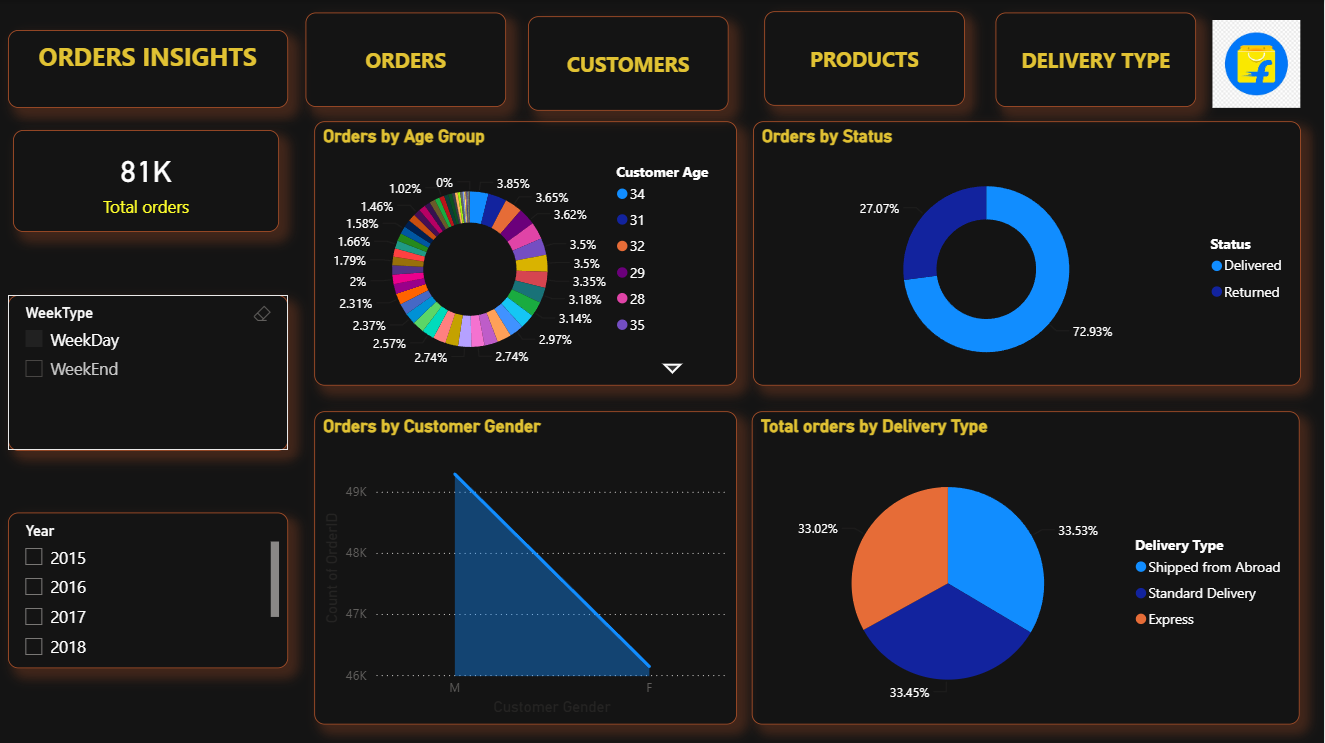

The dashboard page shown, as its layout file describes it:
{"tool":"powerbi","page":{"name":"Orders","canvas":[1280,720],"ordinal":2},"visuals":[{"type":"textbox","box":[10,28.8,270,75],"z":0},{"type":"shape","box":[296.2,12.5,193.8,91.2],"z":1000},{"type":"shape","box":[511.2,16.2,193.8,91.2],"z":2000},{"type":"shape","box":[740,11.2,193.8,91.2],"z":3000},{"type":"shape","box":[962.5,12.5,193.8,91.2],"z":4000},{"type":"image","box":[1150,18.8,130,85],"z":5000},{"type":"slicer","fields":{"Values":["Calendar.WeekType"]},"box":[9.7,284.7,270,150],"z":6000},{"type":"slicer","fields":{"Values":["Calendar.Year"]},"box":[9.7,494.6,270,150],"z":7000},{"type":"card","fields":{"Values":["All Measure.Total orders"]},"box":[14.1,125.1,257.2,98.6],"z":8000},{"type":"donutChart","title":"Orders by Age Group","fields":{"Category":["Customer Data.Customer Age"],"Y":["All Measure.Target orders"]},"box":[304.7,116.5,407.8,255.4],"z":9000},{"type":"donutChart","title":"Orders by Status","fields":{"Category":["Data.Status"],"Y":["CountNonNull(Data.OrderID)"]},"box":[728.1,116.5,528.7,255.4],"z":10000},{"type":"areaChart","title":" Orders by Customer Gender","fields":{"Category":["Customer Data.Customer Gender"],"Y":["CountNonNull(Data.OrderID)"]},"box":[304.7,396.5,407.8,302.5],"z":11000},{"type":"pieChart","fields":{"Category":["Data.Delivery Type"],"Y":["All Measure.Total orders"]},"box":[728,397,529,302],"z":12000}]}

Visuals, with their boxes in screenshot pixels (x1, y1, x2, y2), scaled from the page's 1280x720 canvas onto the 1325x743 screenshot:
textbox: 10:30:290:107
shape: 307:13:507:107
shape: 529:17:730:111
shape: 766:12:967:106
shape: 996:13:1197:107
image: 1190:19:1324:107
slicer - Calendar.WeekType: 10:294:290:449
slicer - Calendar.Year: 10:510:290:665
card - All Measure.Total orders: 15:129:281:231
"Orders by Age Group" donutChart: 315:120:738:384
"Orders by Status" donutChart: 754:120:1301:384
" Orders by Customer Gender" areaChart: 315:409:738:721
pieChart - Data.Delivery Type x All Measure.Total orders: 754:410:1301:721
